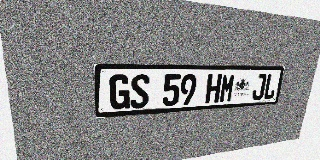5: (162, 74, 181, 106)
9: (179, 74, 197, 105)
G: (110, 74, 130, 110)
H: (205, 74, 222, 104)
J: (251, 74, 267, 100)
L: (263, 74, 278, 100)
M: (219, 74, 236, 103)
S: (130, 74, 150, 109)
